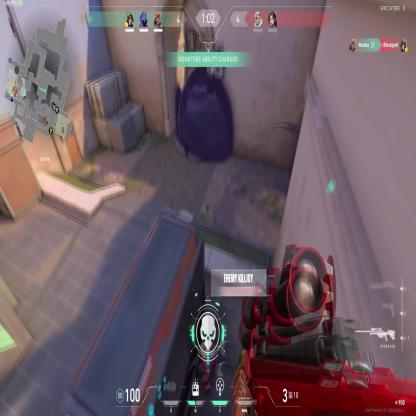enemy: (187, 327, 223, 396)
